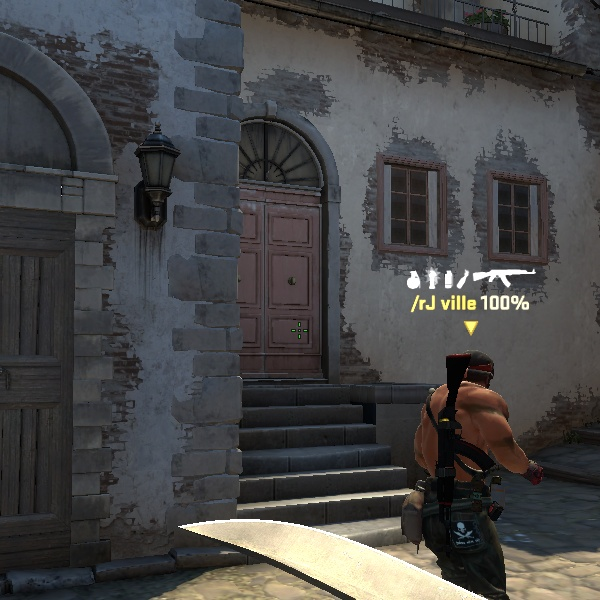t_body: (368, 343, 554, 596)
t_head: (438, 345, 508, 413)
